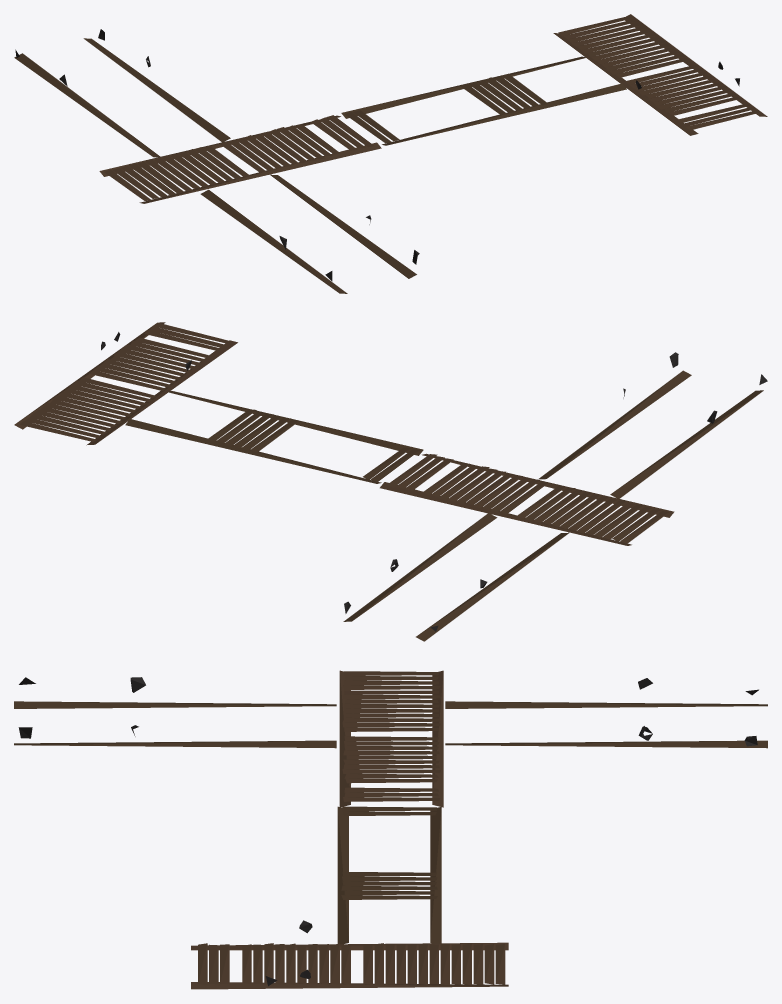
Rendered from wharf.lod2.glb.
The picture shows the model from 3 angles, top to bottom: view 1: azimuth 30°, elevation 25°; view 2: azimuth 150°, elevation 25°; view 3: azimuth 270°, elevation 25°; orthographic projection. The views are drawn at different scales.
Visible parts, largest first — view 1: Object_2; view 2: Object_2; view 3: Object_2.
Boxes of the visible parts, left/top/right/bottom form: Object_2: left=14, top=14, right=767, bottom=293; Object_2: left=14, top=322, right=767, bottom=641; Object_2: left=14, top=670, right=767, bottom=989.
Bounding box in the file's own units: 29.88 × 1.13 × 29.87.
